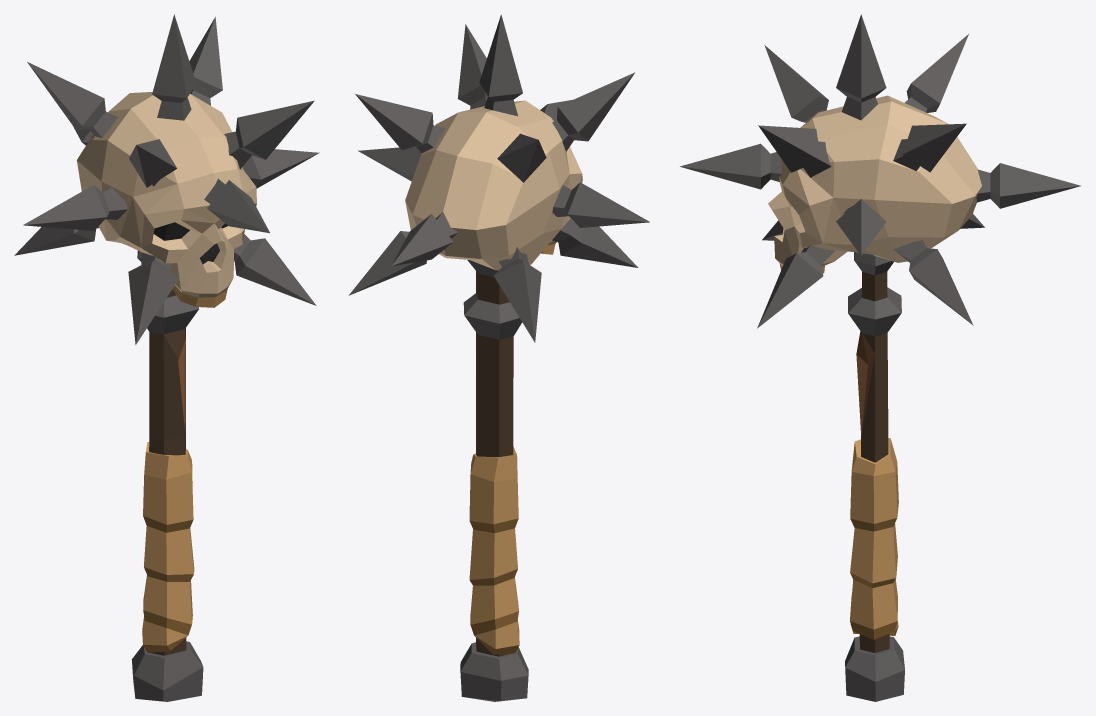
The model's file is SM_Morningstar_Goblin.fbx.
The picture shows the model from 3 angles, left to right: view 1: azimuth 30°, elevation 25°; view 2: azimuth 150°, elevation 25°; view 3: azimuth 270°, elevation 25°; orthographic projection.
Visible parts, largest first — view 1: SM_Morningstar_Goblin; view 2: SM_Morningstar_Goblin; view 3: SM_Morningstar_Goblin.
Part boxes in pixels (x1,y1,x2,y2): SM_Morningstar_Goblin: (14, 14, 319, 701); SM_Morningstar_Goblin: (348, 14, 649, 701); SM_Morningstar_Goblin: (680, 14, 1080, 701).
Size of the model in its own units: 0.4187 by 0.9323 by 0.4974.
